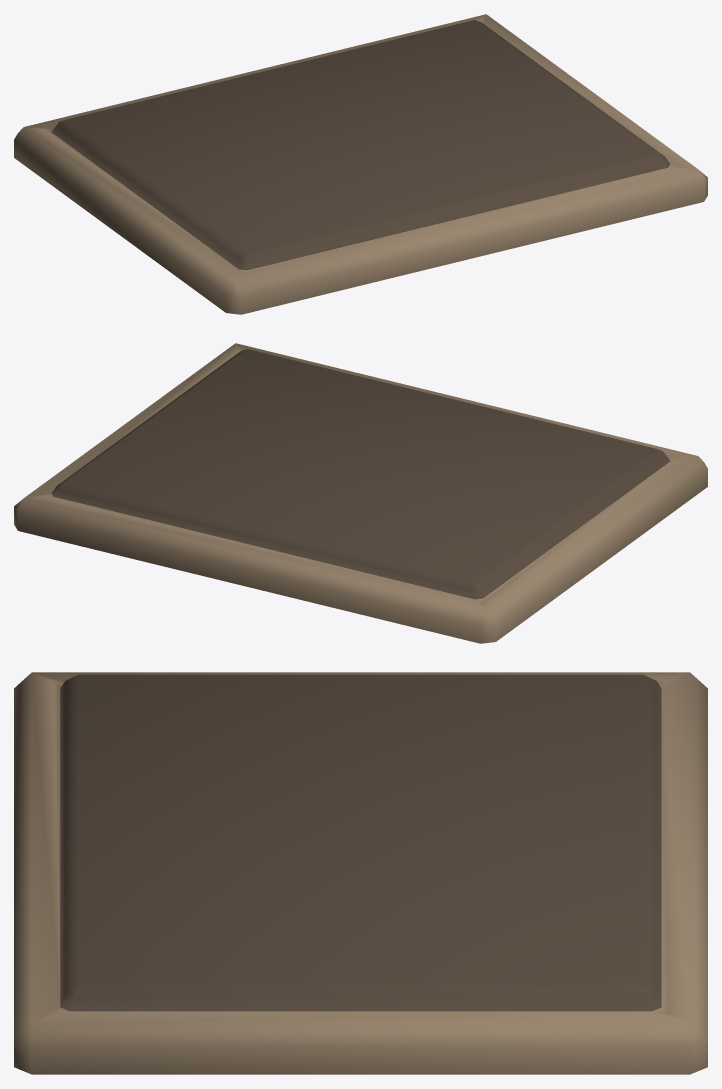
Rendered from Field.fbx.
The picture shows the model from 3 angles, top to bottom: view 1: azimuth 30°, elevation 25°; view 2: azimuth 150°, elevation 25°; view 3: azimuth 270°, elevation 25°; orthographic projection. The views are drawn at different scales.
Visible parts, largest first — view 1: Box001; view 2: Box001; view 3: Box001.
Part boxes in pixels (left/top/right/bottom): Box001: left=14, top=14, right=707, bottom=314; Box001: left=14, top=343, right=707, bottom=643; Box001: left=14, top=672, right=707, bottom=1074.
Size of the model in its own units: 1825 by 145 by 1465.
